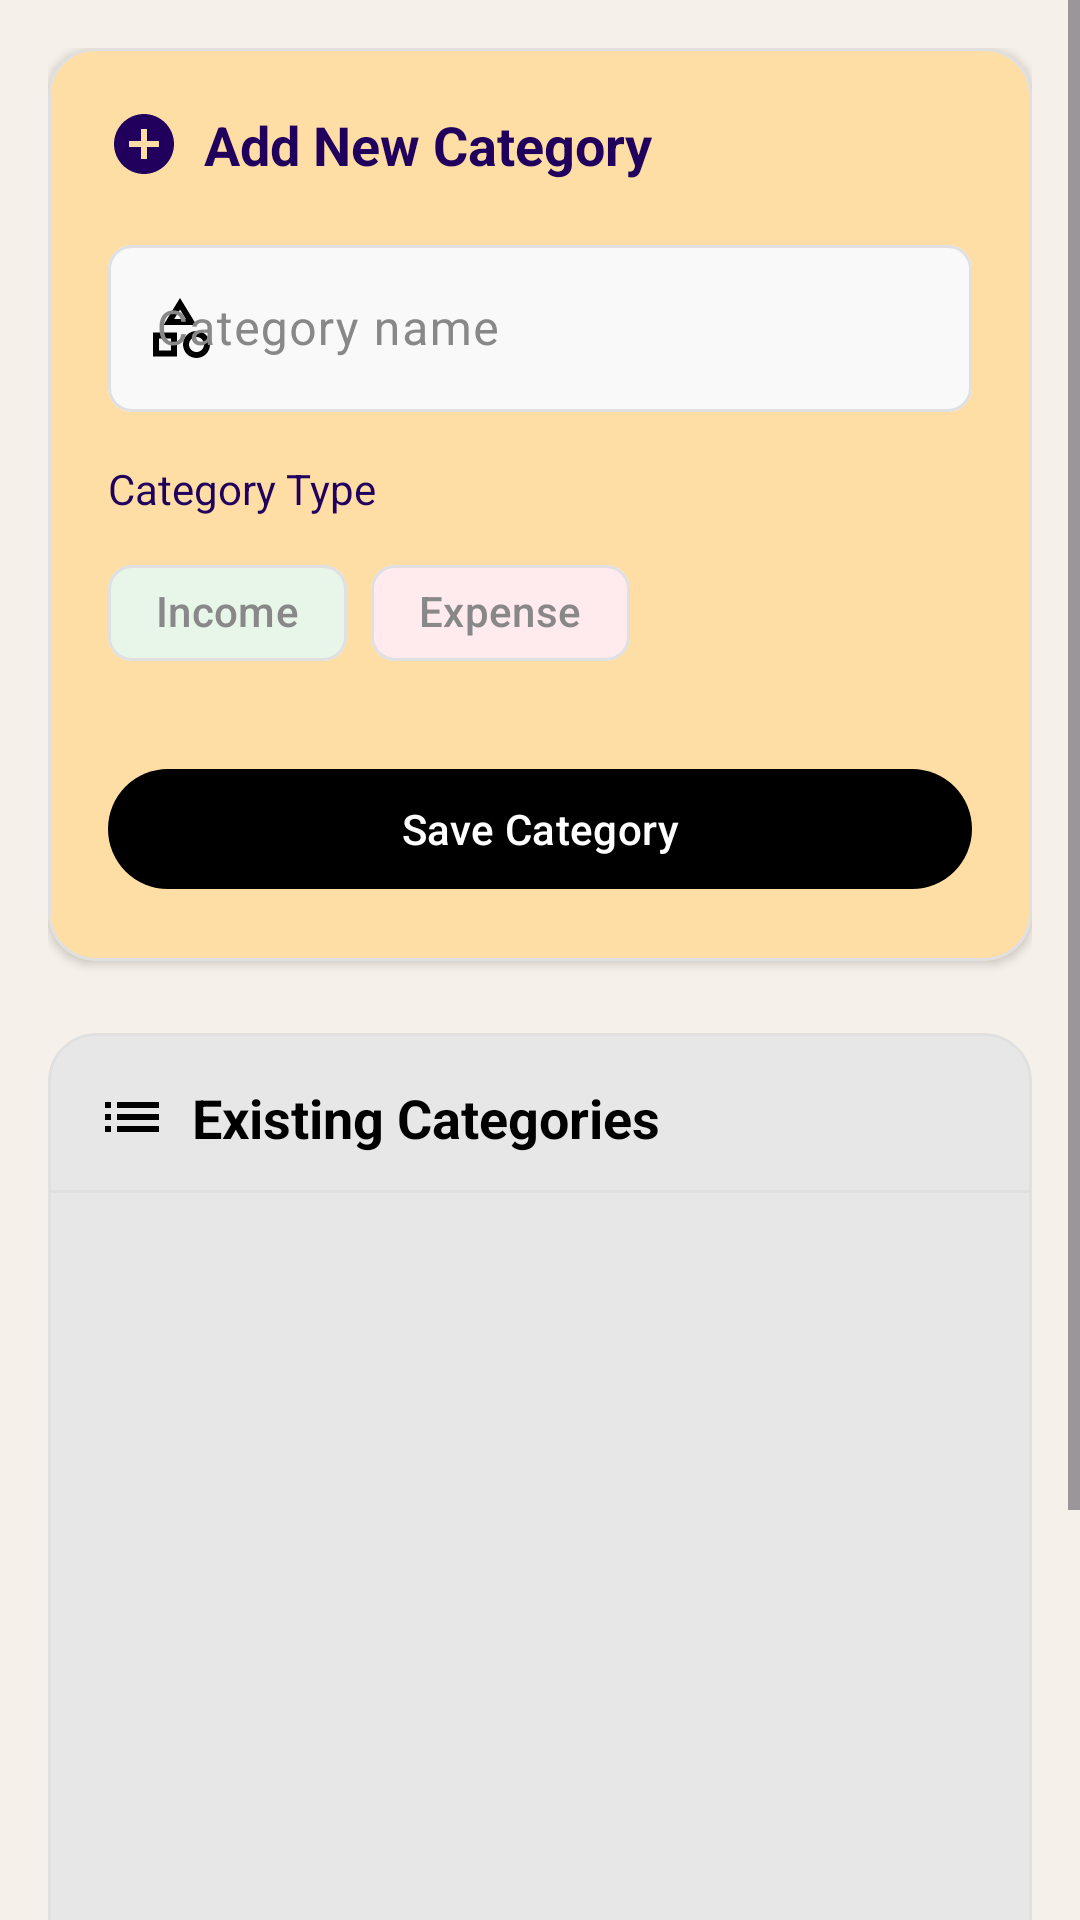

Where icons sit on this 1080 × 1920 app screen, as BBox(x1, y1, x2, y2):
add circle: BBox(114, 114, 174, 174)
list: BBox(105, 1102, 159, 1132)
